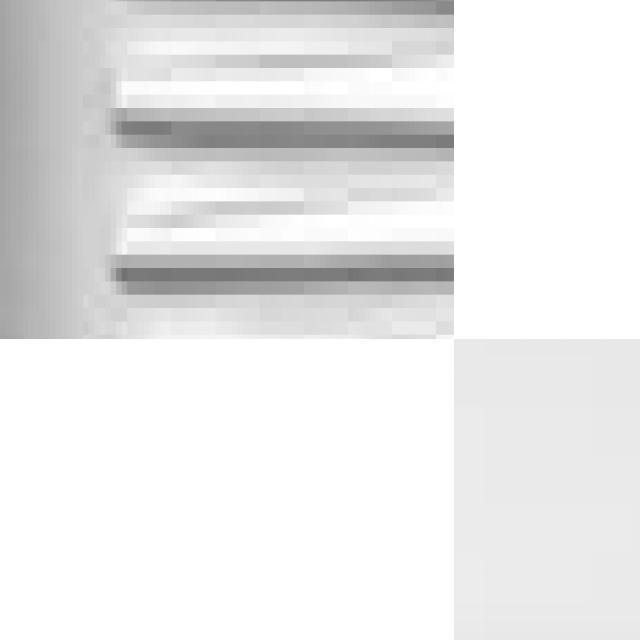forks: (0, 0, 454, 339)
